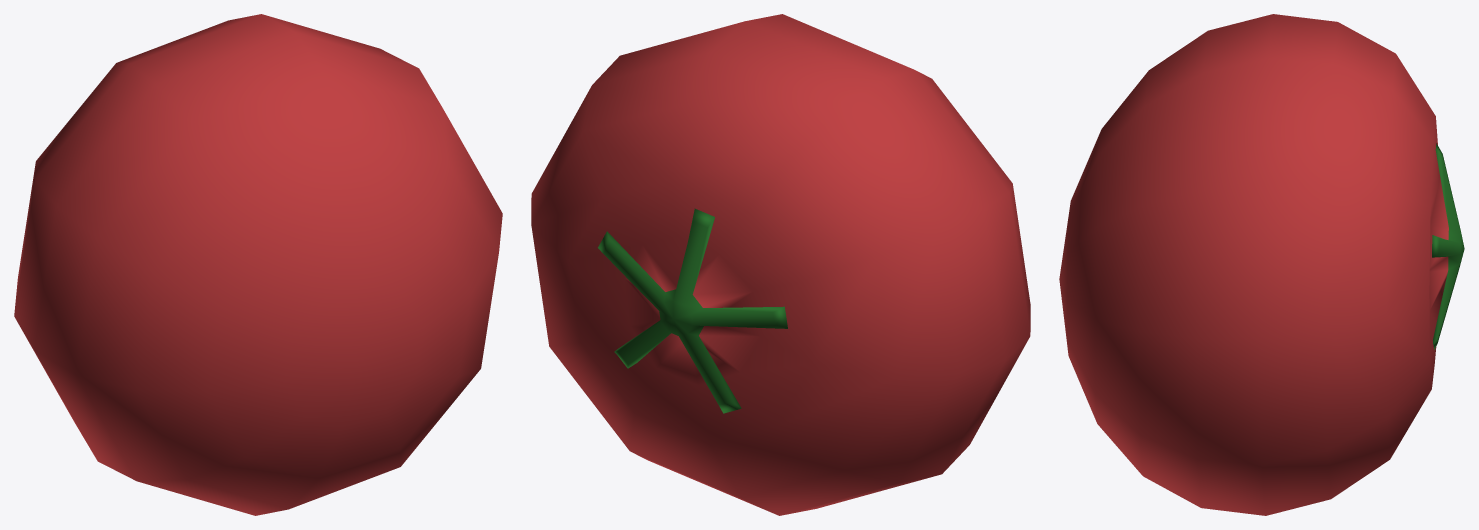
The model's file is tomate.glb.
The picture shows the model from 3 angles, left to right: view 1: azimuth 30°, elevation 25°; view 2: azimuth 150°, elevation 25°; view 3: azimuth 270°, elevation 25°; orthographic projection. The views are drawn at different scales.
Parts seen in each view (by area): view 1: tomate; view 2: tomate; view 3: tomate.
Part boxes in pixels (x1=…): tomate: x1=14, y1=14, x2=502, y2=515; tomate: x1=531, y1=14, x2=1030, y2=515; tomate: x1=1059, y1=14, x2=1464, y2=515.
Bounding box in the file's own units: 0.1499 × 0.1464 × 0.1204.
